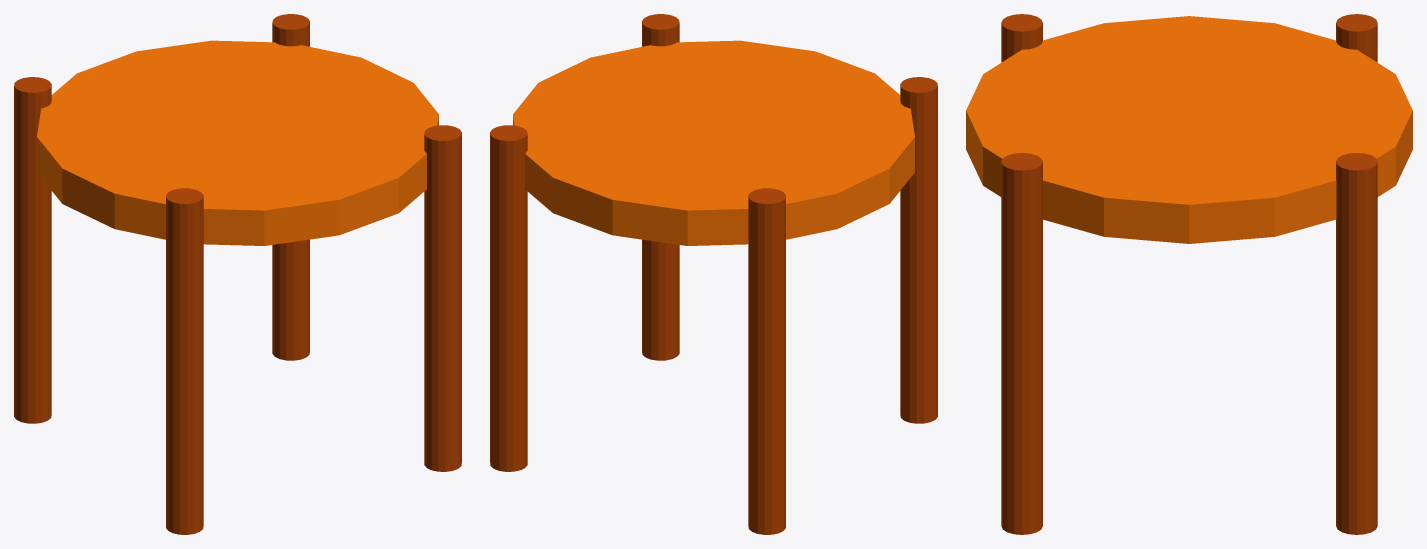
Rendered from Prop_Table_04.fbx.
3 views of the same model, side by side, from view 1: azimuth 30°, elevation 25°; view 2: azimuth 150°, elevation 25°; view 3: azimuth 270°, elevation 25° (orthographic). The views are drawn at different scales.
Visible parts, largest first — view 1: Prop_Table_04; view 2: Prop_Table_04; view 3: Prop_Table_04.
Boxes of the visible parts, <box> form: Prop_Table_04: <box>14,14,461,534</box>; Prop_Table_04: <box>490,14,937,534</box>; Prop_Table_04: <box>966,14,1412,534</box>.
Bounding box in the file's own units: 100 × 90 × 100.
